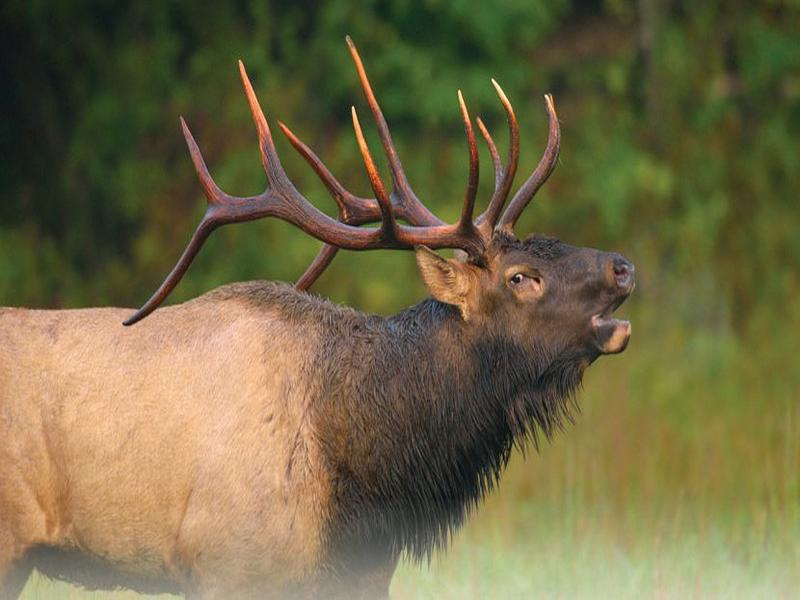elk: (1, 99, 635, 600)
